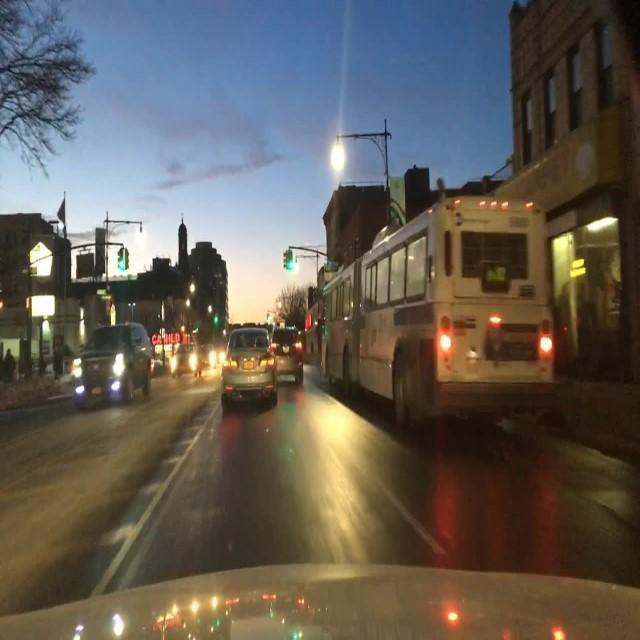normal: (305, 190, 549, 428), (74, 322, 155, 409), (223, 325, 280, 409)
